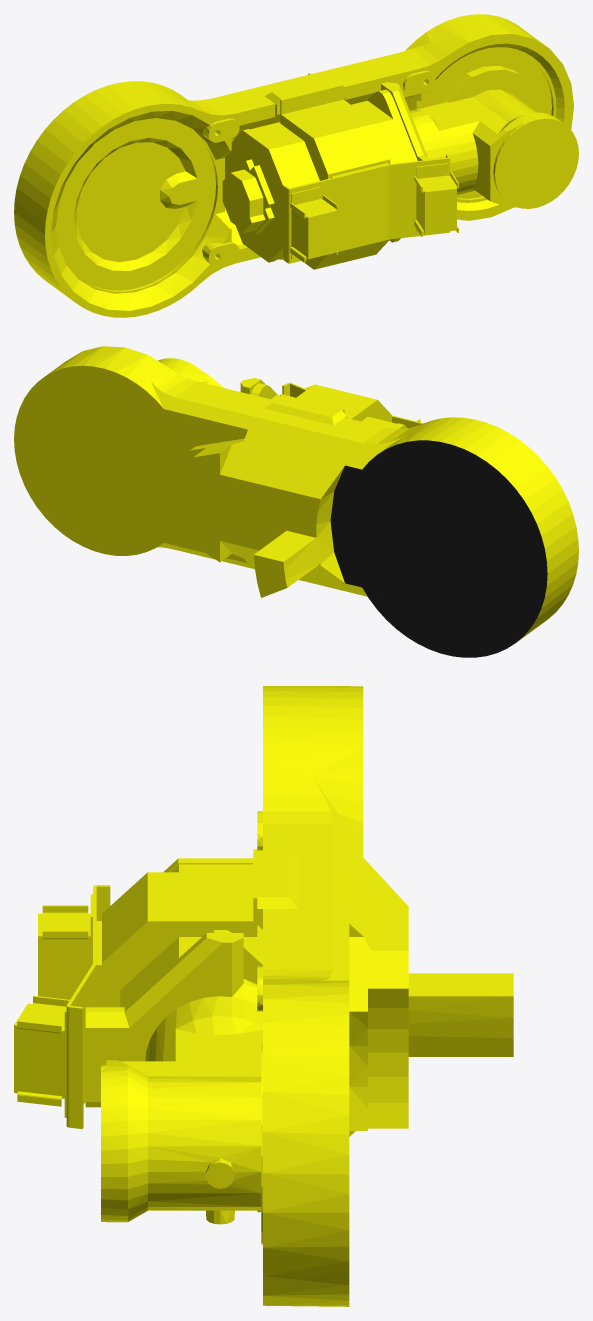
3 views of the same model, one above another, from view 1: azimuth 30°, elevation 25°; view 2: azimuth 150°, elevation 25°; view 3: azimuth 270°, elevation 25° (orthographic). The views are drawn at different scales.
Visible parts, largest first — view 1: node; view 2: node; view 3: node.
Part boxes in pixels (bbox=[...]): node: bbox=[14, 14, 578, 317]; node: bbox=[14, 346, 578, 657]; node: bbox=[14, 686, 513, 1306].
Size of the model in its own units: 850 by 320 by 485.
